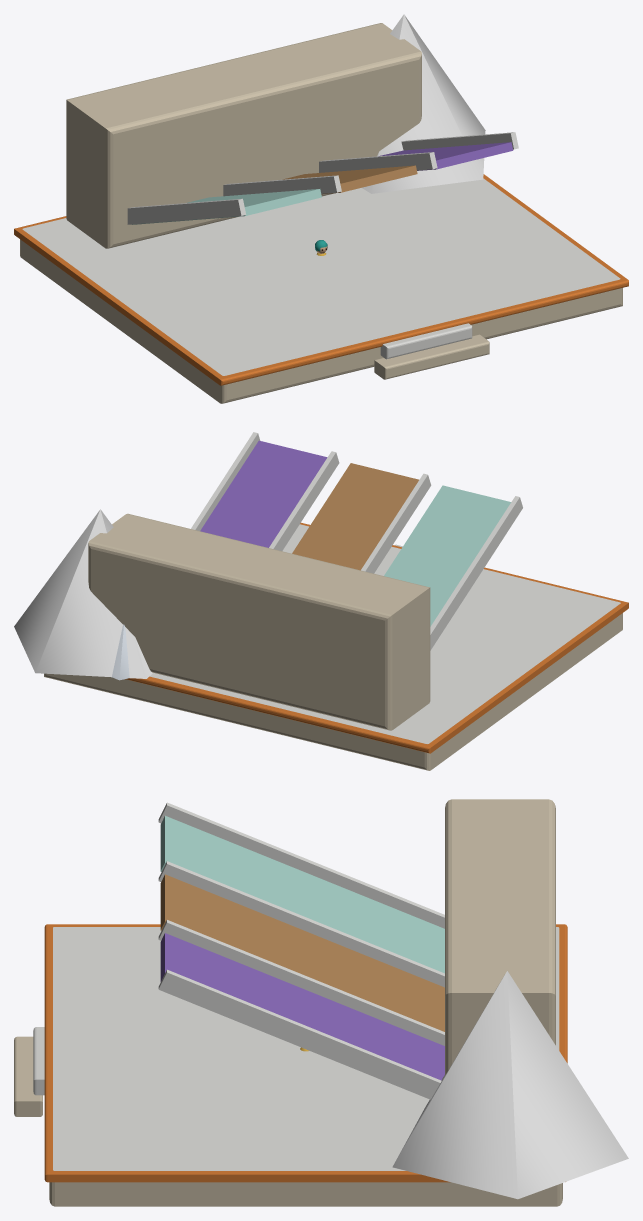
File: slopes.glb
3 renders of one model, top to bottom at view 1: azimuth 30°, elevation 25°; view 2: azimuth 150°, elevation 25°; view 3: azimuth 270°, elevation 25°, orthographic. The views are drawn at different scales.
Visible parts, largest first — view 1: part_000; view 2: part_000; view 3: part_000.
Part boxes in pixels (left/top/right/bottom): part_000: left=14, top=14, right=628, bottom=403; part_000: left=14, top=432, right=628, bottom=770; part_000: left=14, top=799, right=628, bottom=1206.
Bounding box in the file's own units: 9.46 × 3.63 × 8.86.
